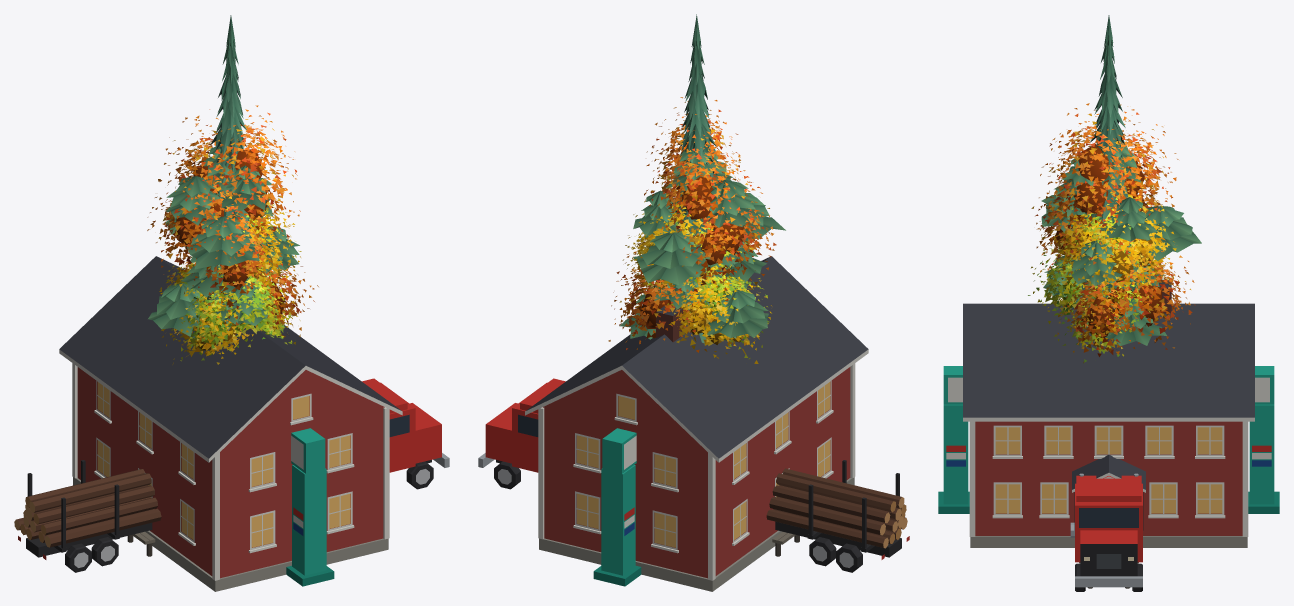
File: env_finland.glb
3 renders of one model, left to right at view 1: azimuth 30°, elevation 25°; view 2: azimuth 150°, elevation 25°; view 3: azimuth 270°, elevation 25°, orthographic. The views are drawn at different scales.
Parts seen in each view (by area): view 1: SM_FarmHouse_FI, SM_LogTruck, SM_Birch_B, SM_Pine_A, SM_FinishArch, SM_Birch_C, SM_Birch_A, SM_Pine_B, SM_Spruce_C; view 2: SM_FarmHouse_FI, SM_LogTruck, SM_Birch_B, SM_Pine_A, SM_FinishArch, SM_Birch_A, SM_Pine_B, SM_Spruce_C, SM_Birch_C; view 3: SM_FarmHouse_FI, SM_Birch_B, SM_LogTruck, SM_FinishArch, SM_Pine_A, SM_Birch_A, SM_Spruce_C, SM_Birch_C, SM_Pine_B.
Part boxes in pixels (bbox=[...]): SM_FarmHouse_FI: bbox=[59, 256, 402, 591]; SM_LogTruck: bbox=[14, 378, 449, 572]; SM_Birch_B: bbox=[147, 105, 318, 337]; SM_Pine_A: bbox=[163, 145, 299, 273]; SM_FinishArch: bbox=[286, 428, 334, 586]; SM_Birch_C: bbox=[166, 202, 295, 361]; SM_Birch_A: bbox=[159, 187, 301, 364]; SM_Pine_B: bbox=[148, 257, 267, 336]; SM_Spruce_C: bbox=[192, 15, 273, 338]; SM_FarmHouse_FI: bbox=[525, 256, 868, 591]; SM_LogTruck: bbox=[478, 378, 909, 572]; SM_Birch_B: bbox=[608, 97, 776, 352]; SM_Pine_A: bbox=[633, 148, 785, 285]; SM_FinishArch: bbox=[593, 428, 641, 586]; SM_Birch_A: bbox=[622, 187, 772, 363]; SM_Pine_B: bbox=[619, 230, 768, 339]; SM_Spruce_C: bbox=[662, 14, 737, 344]; SM_Birch_C: bbox=[636, 190, 769, 359]; SM_FarmHouse_FI: bbox=[963, 279, 1254, 563]; SM_Birch_B: bbox=[1031, 103, 1195, 356]; SM_LogTruck: bbox=[1070, 473, 1143, 591]; SM_FinishArch: bbox=[938, 366, 1279, 513]; SM_Pine_A: bbox=[1041, 142, 1201, 285]; SM_Birch_A: bbox=[1043, 178, 1178, 363]; SM_Spruce_C: bbox=[1071, 15, 1141, 326]; SM_Birch_C: bbox=[1028, 194, 1158, 362]; SM_Pine_B: bbox=[1043, 251, 1166, 346].
Bounding box in the file's own units: 16.63 × 21.5 × 12.5.
